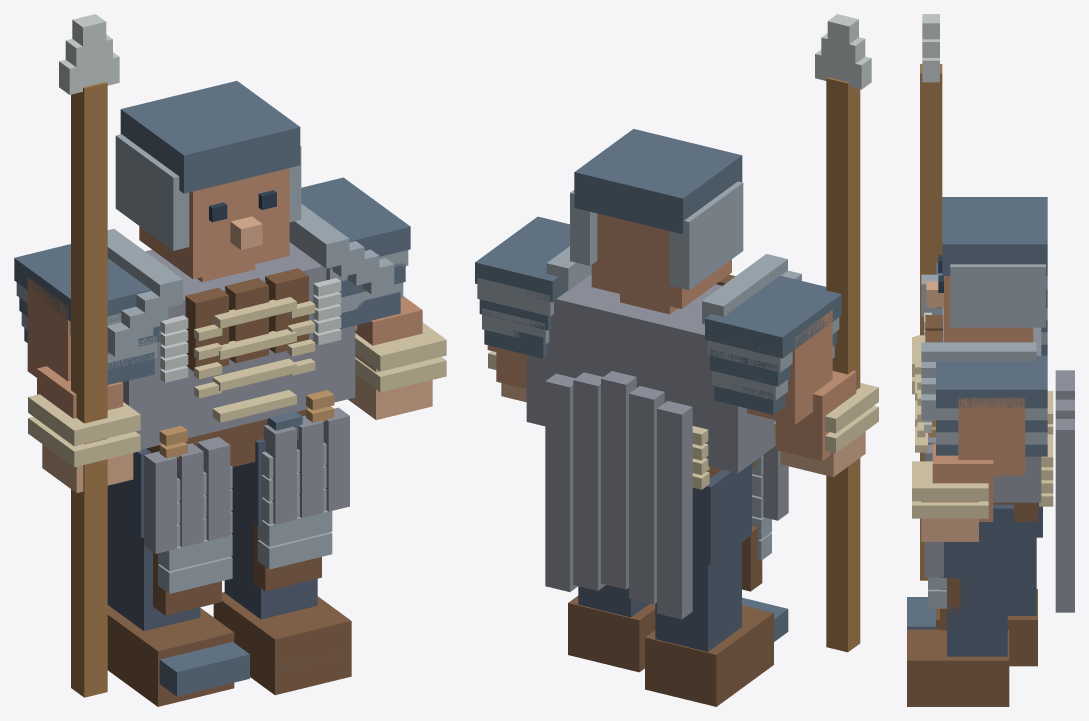
The model's file is arena-q-pike-captain.glb.
3 renders of one model, left to right at view 1: azimuth 30°, elevation 25°; view 2: azimuth 150°, elevation 25°; view 3: azimuth 270°, elevation 25°, orthographic. The views are drawn at different scales.
Parts seen in each view (by area): view 1: Weapon, Shoulders, Helmet, Boots, Skirt, Cloth, Legs, Greaves, Wraps, Head, Arms, Vest (+6 smaller); view 2: Cape, Shoulders, Cloth, Weapon, Helmet, Boots, Legs, Arms, Head, Wraps, Greaves, Hands (+2 smaller); view 3: Helmet, Shoulders, Legs, Boots, Arms, Weapon, Cape, Wraps, Cloth, Seams, Head, Hands (+6 smaller).
Part boxes in pixels (left/top/right/bottom): Weapon: left=59, top=14, right=119, bottom=697; Shoulders: left=14, top=177, right=410, bottom=384; Helmet: left=115, top=81, right=301, bottom=250; Boots: left=107, top=592, right=351, bottom=706; Skirt: left=144, top=407, right=349, bottom=553; Cloth: left=122, top=242, right=355, bottom=449; Legs: left=107, top=439, right=317, bottom=630; Greaves: left=153, top=442, right=332, bottom=615; Wraps: left=28, top=322, right=446, bottom=467; Head: left=139, top=168, right=289, bottom=282; Arms: left=27, top=278, right=422, bottom=418; Vest: left=185, top=268, right=308, bottom=371; Cape: left=545, top=371, right=692, bottom=619; Shoulders: left=475, top=216, right=841, bottom=414; Cloth: left=526, top=274, right=775, bottom=473; Weapon: left=815, top=14, right=871, bottom=652; Helmet: left=570, top=129, right=743, bottom=290; Boots: left=568, top=596, right=788, bottom=706; Legs: left=578, top=463, right=751, bottom=651; Arms: left=487, top=310, right=856, bottom=461; Head: left=591, top=213, right=731, bottom=314; Wraps: left=488, top=351, right=878, bottom=452; Greaves: left=742, top=455, right=771, bottom=591; Hands: left=501, top=383, right=865, bottom=477; Helmet: left=942, top=197, right=1047, bottom=327; Shoulders: left=921, top=262, right=1047, bottom=456; Legs: left=940, top=502, right=1042, bottom=656; Boots: left=907, top=589, right=1037, bottom=706; Arms: left=932, top=397, right=1025, bottom=521; Weapon: left=920, top=14, right=942, bottom=580; Cape: left=1055, top=370, right=1074, bottom=612; Wraps: left=912, top=337, right=988, bottom=518; Cloth: left=942, top=307, right=1041, bottom=502; Seams: left=915, top=336, right=1053, bottom=506; Head: left=944, top=276, right=1033, bottom=342; Hands: left=921, top=501, right=978, bottom=541.
Size of the model in its own units: 1.12 by 2.02 by 0.5231.
